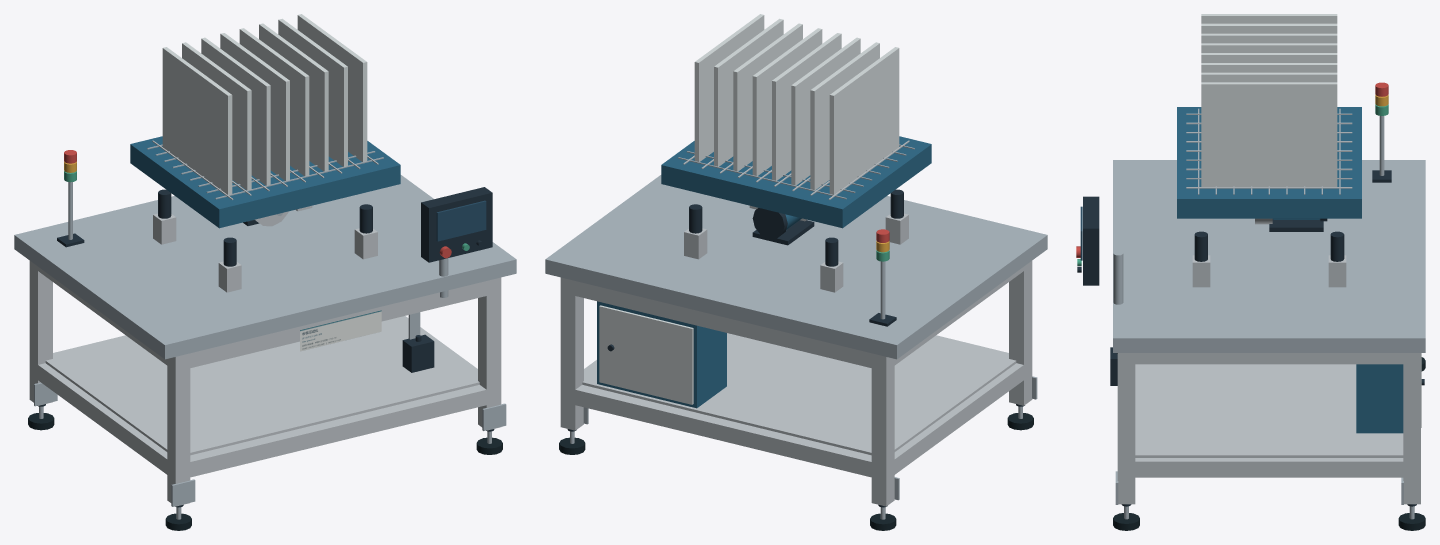
Rendered from filter-press-cell.glb.
3 views of the same model, side by side, from view 1: azimuth 30°, elevation 25°; view 2: azimuth 150°, elevation 25°; view 3: azimuth 270°, elevation 25° (orthographic). The views are drawn at different scales.
Visible parts, largest first — view 1: ClosedMachineBed_28, LowerShelf_29, ScreenFrame_56, FilterPlate_82, SlottedExtrusion_22, SlottedExtrusion_23, SlottedExtrusion_8, FilterPlate_86, FilterPlate_89, FilterPlate_83, FilterPlate_84, FilterPlate_87 (+13 smaller); view 2: ClosedMachineBed_28, LowerShelf_29, ScreenFrame_56, BackDoor_31, FilterPlate_82, SlottedExtrusion_20, SlottedExtrusion_21, SlottedExtrusion_3, Cabinet_30, SlottedExtrusion_13, SlottedExtrusion_24, FilterPlate_86 (+13 smaller); view 3: ClosedMachineBed_28, LowerShelf_29, FilterPlate_89, ScreenFrame_56, SlottedExtrusion_26, Cabinet_30, SlottedExtrusion_27, SlottedExtrusion_18, SlottedExtrusion_13, ConsoleBack_34, FilterPlate_83, FilterPlate_84 (+12 smaller).
Part boxes in pixels (bbox=[...]): ClosedMachineBed_28: bbox=[14, 175, 516, 359]; LowerShelf_29: bbox=[45, 317, 479, 455]; ScreenFrame_56: bbox=[130, 136, 400, 228]; FilterPlate_82: bbox=[162, 47, 232, 194]; SlottedExtrusion_22: bbox=[183, 384, 493, 478]; SlottedExtrusion_23: bbox=[183, 279, 493, 368]; SlottedExtrusion_8: bbox=[167, 353, 190, 506]; FilterPlate_86: bbox=[239, 28, 309, 176]; FilterPlate_89: bbox=[297, 14, 367, 161]; FilterPlate_83: bbox=[182, 42, 251, 190]; FilterPlate_84: bbox=[201, 37, 270, 185]; FilterPlate_87: bbox=[259, 23, 328, 171]; ClosedMachineBed_28: bbox=[545, 175, 1047, 359]; LowerShelf_29: bbox=[582, 333, 1016, 455]; ScreenFrame_56: bbox=[661, 136, 931, 228]; BackDoor_31: bbox=[599, 305, 693, 404]; FilterPlate_82: bbox=[829, 47, 899, 194]; SlottedExtrusion_20: bbox=[568, 384, 878, 478]; SlottedExtrusion_21: bbox=[575, 281, 878, 369]; SlottedExtrusion_3: bbox=[871, 353, 894, 506]; Cabinet_30: bbox=[597, 301, 726, 408]; SlottedExtrusion_13: bbox=[560, 277, 583, 430]; SlottedExtrusion_24: bbox=[890, 363, 1023, 477]; FilterPlate_86: bbox=[752, 28, 822, 176]; ClosedMachineBed_28: bbox=[1113, 160, 1425, 352]; LowerShelf_29: bbox=[1135, 364, 1403, 457]; FilterPlate_89: bbox=[1201, 82, 1337, 186]; ScreenFrame_56: bbox=[1177, 107, 1361, 218]; SlottedExtrusion_26: bbox=[1126, 458, 1412, 477]; Cabinet_30: bbox=[1356, 364, 1403, 433]; SlottedExtrusion_27: bbox=[1126, 353, 1412, 364]; SlottedExtrusion_18: bbox=[1117, 353, 1135, 504]; SlottedExtrusion_13: bbox=[1403, 353, 1420, 504]; ConsoleBack_34: bbox=[1083, 196, 1099, 285]; FilterPlate_83: bbox=[1201, 23, 1337, 33]; FilterPlate_84: bbox=[1201, 33, 1337, 43].
Size of the model in its own units: 1.55 by 1.61 by 1.29.
11 materials, 1 textured.
